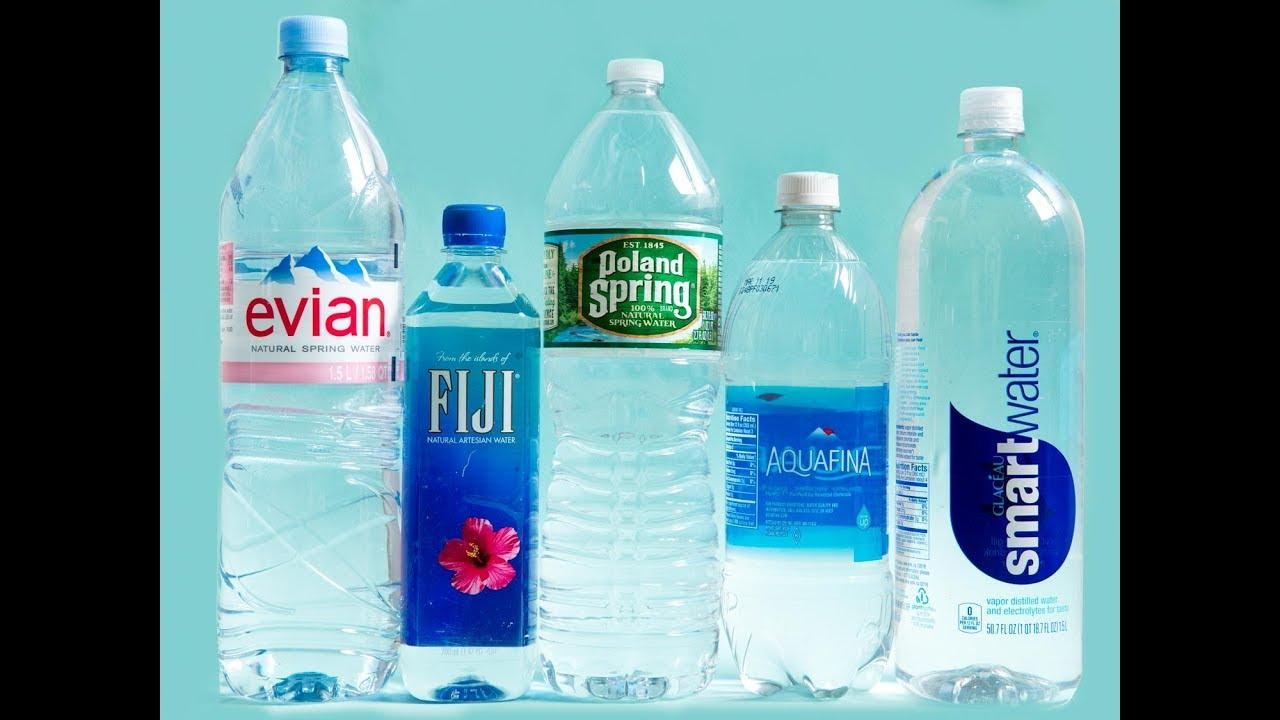plastic_bottle: (205, 10, 405, 700), (877, 89, 1092, 704), (540, 37, 735, 704), (705, 153, 906, 680), (400, 191, 547, 706)
